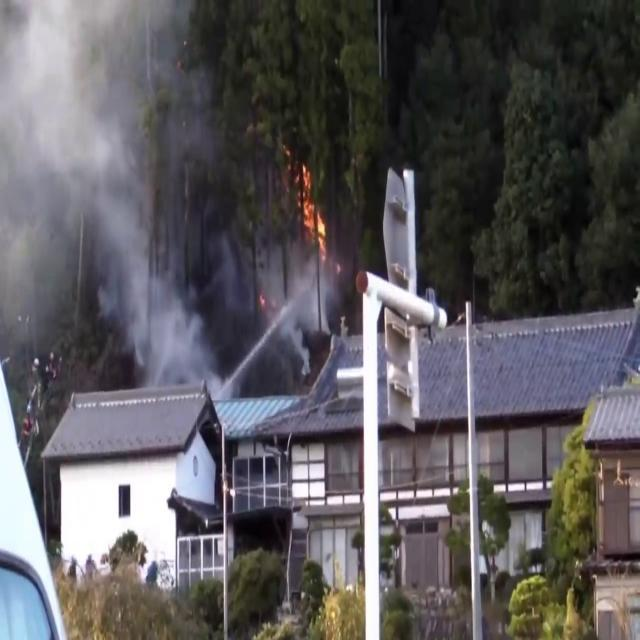Fire: (286, 148, 331, 279)
Smoke: (0, 0, 227, 407), (252, 242, 334, 370)
